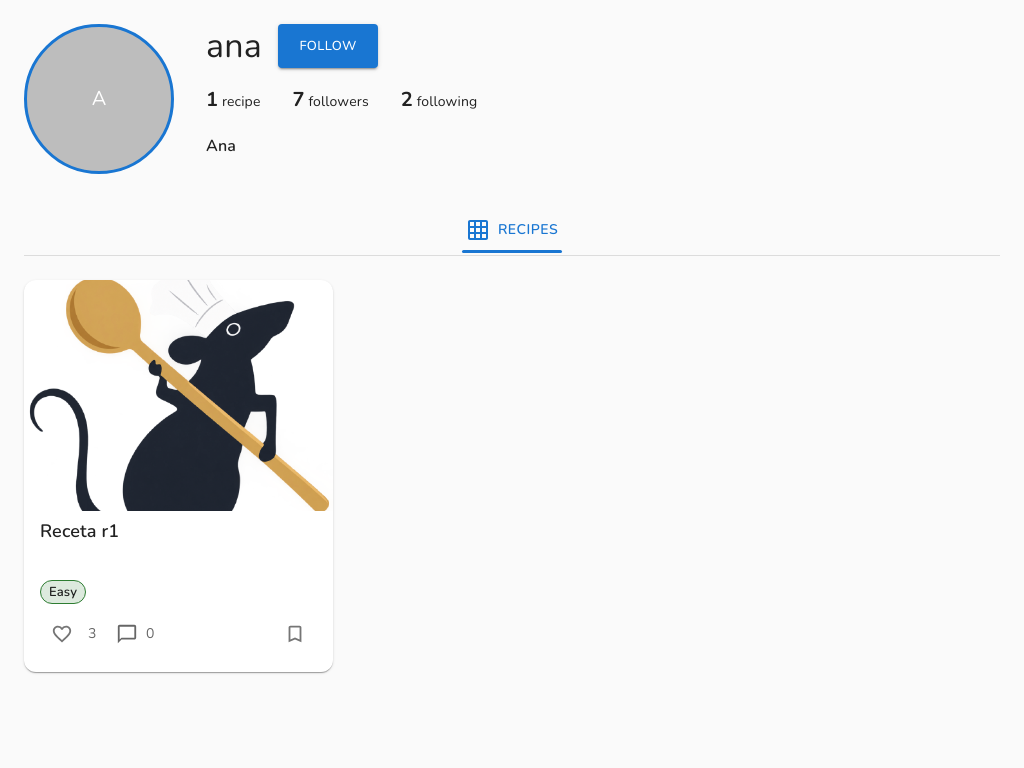
Test case: the profile page › a heart on a profile card › takes the heart back and says why when there is no connection
Click the button named "Like" at (62, 634), box [40,612,84,656]
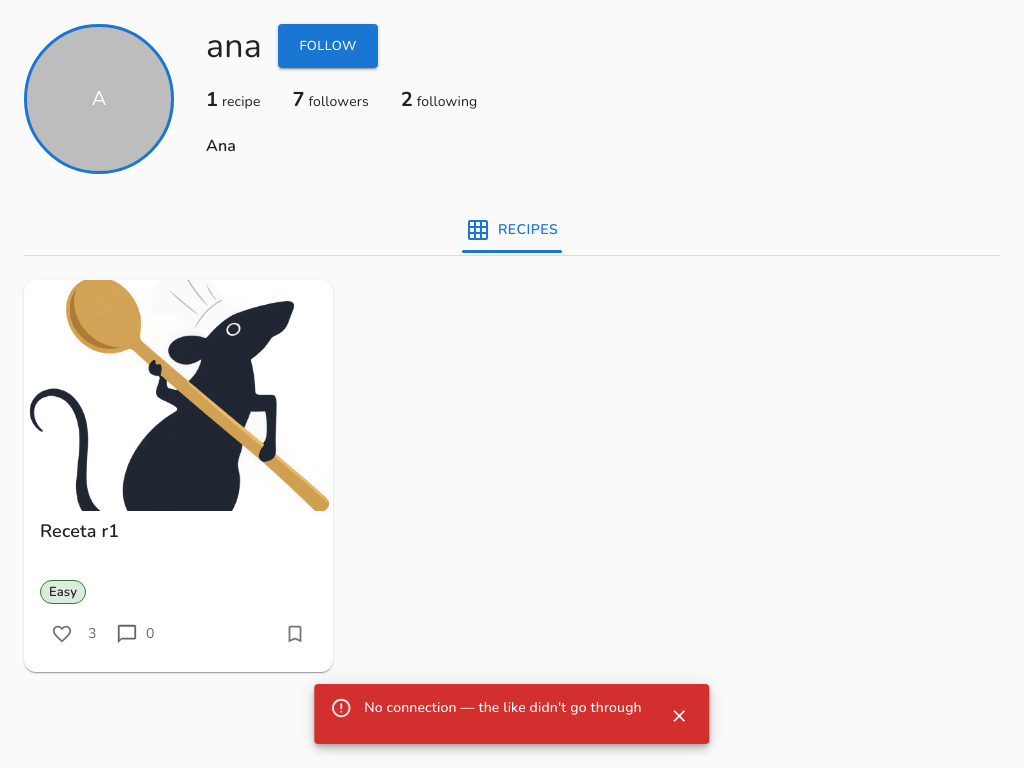
Expected: the text "3" is shown, [88,624,97,643]
Now the text "No connection — the like didn't go through" is shown, box [364,698,642,717]
